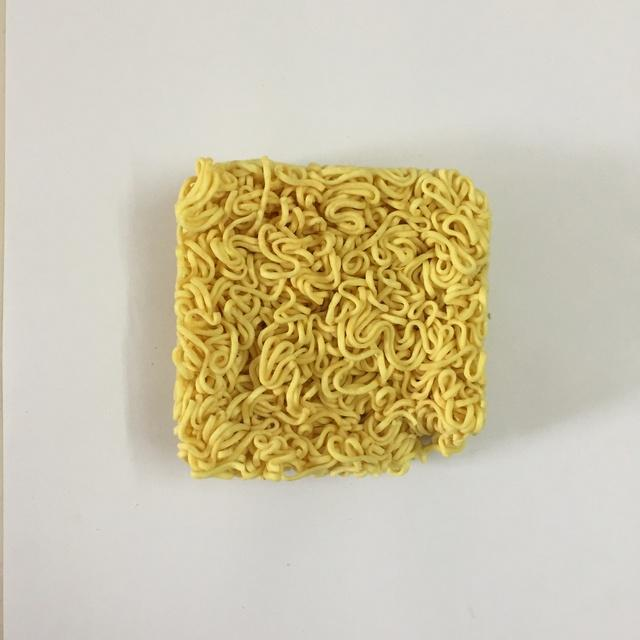noodles: (164, 149, 495, 488)
